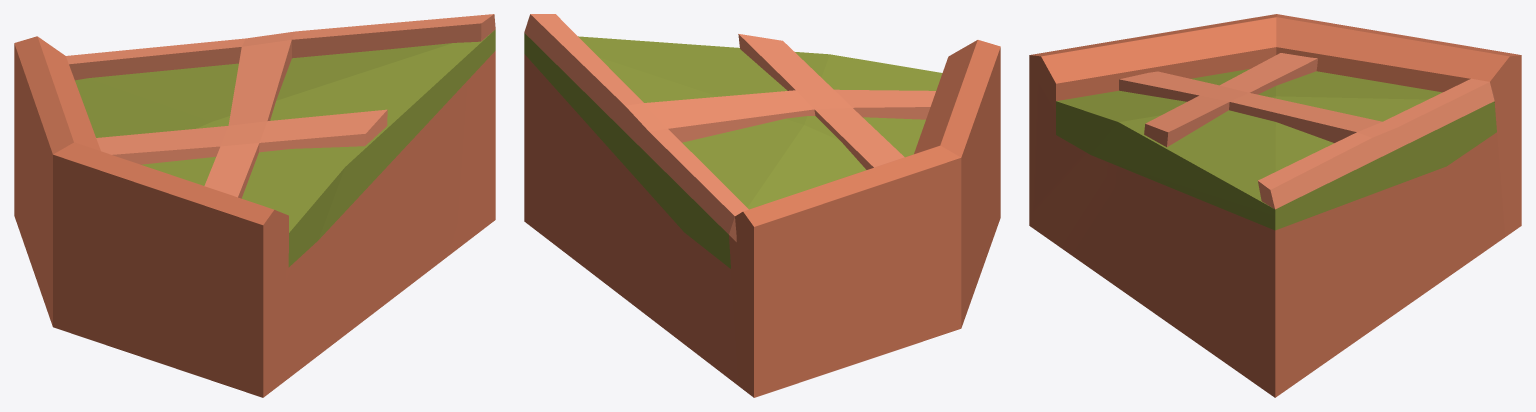
Rendered from SM_Food_Pie_06.fbx.
3 views of the same model, side by side, from view 1: azimuth 30°, elevation 25°; view 2: azimuth 150°, elevation 25°; view 3: azimuth 270°, elevation 25° (orthographic).
Visible parts, largest first — view 1: SM_Food_Pie_06; view 2: SM_Food_Pie_06; view 3: SM_Food_Pie_06.
Part boxes in pixels (x1,y1,x2,y2): SM_Food_Pie_06: (14, 14, 495, 397); SM_Food_Pie_06: (524, 14, 1000, 397); SM_Food_Pie_06: (1029, 14, 1521, 397).
Bounding box in the file's own units: 0.1453 × 0.0655 × 0.1417.
